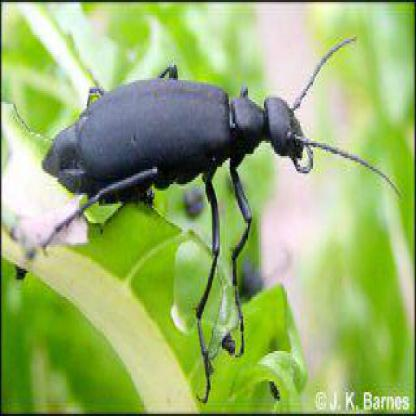blister beetle: (40, 36, 391, 259)
